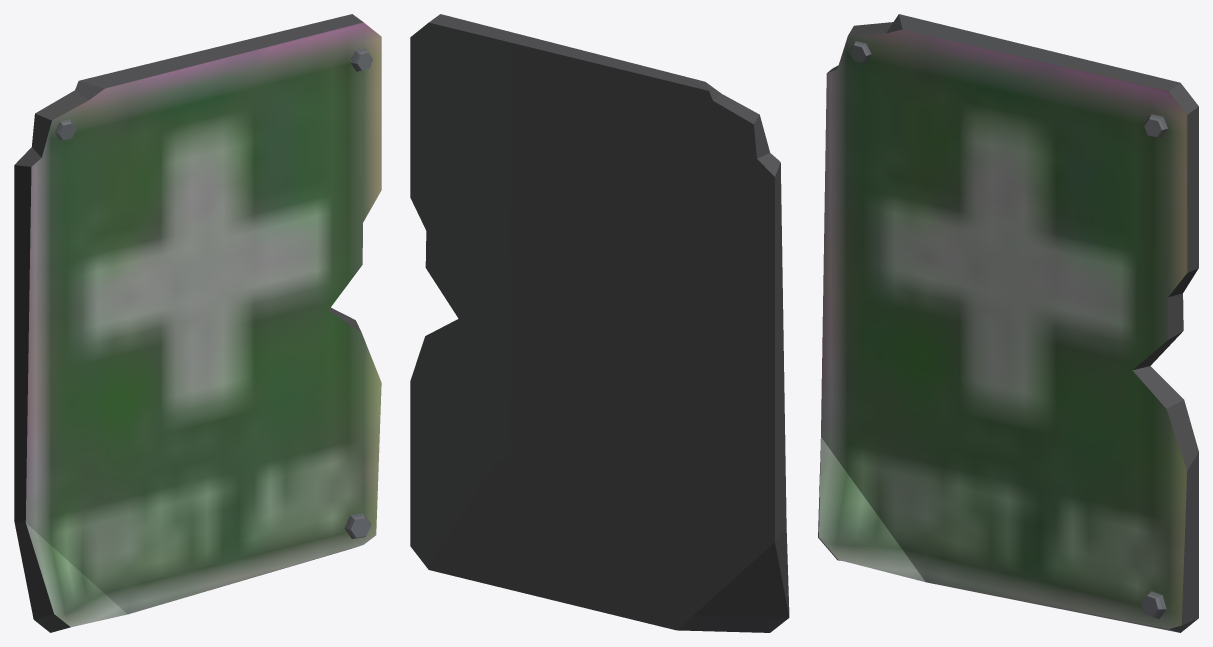
The model's file is SM_Prop_Sign_02.glb.
3 renders of one model, left to right at view 1: azimuth 30°, elevation 25°; view 2: azimuth 150°, elevation 25°; view 3: azimuth 330°, elevation 25°, orthographic. The views are drawn at different scales.
Visible parts, largest first — view 1: SM_Prop_Sign_02; view 2: SM_Prop_Sign_02; view 3: SM_Prop_Sign_02.
Boxes of the visible parts, x1,y1,x2,y2 form: SM_Prop_Sign_02: (14, 14, 381, 632); SM_Prop_Sign_02: (410, 14, 789, 632); SM_Prop_Sign_02: (818, 14, 1198, 632).
Size of the model in its own units: 68.79 by 98.74 by 8.94.
1 material, 1 textured.
